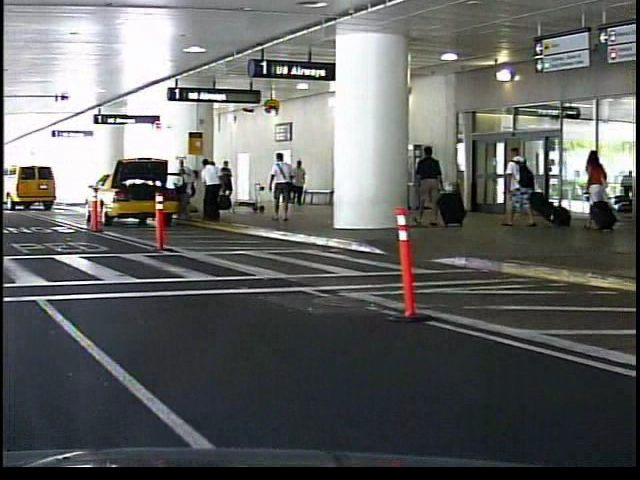person: (500, 142, 537, 227), (575, 145, 610, 230), (409, 142, 440, 229), (262, 150, 294, 223), (289, 160, 306, 207)
